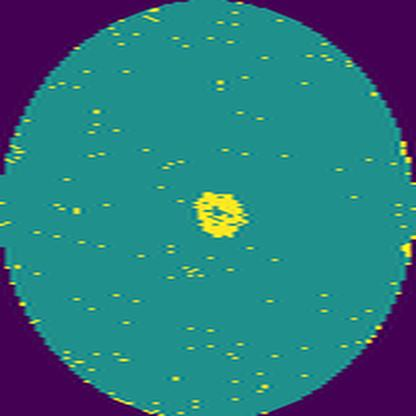Center: (196, 190, 252, 238)
